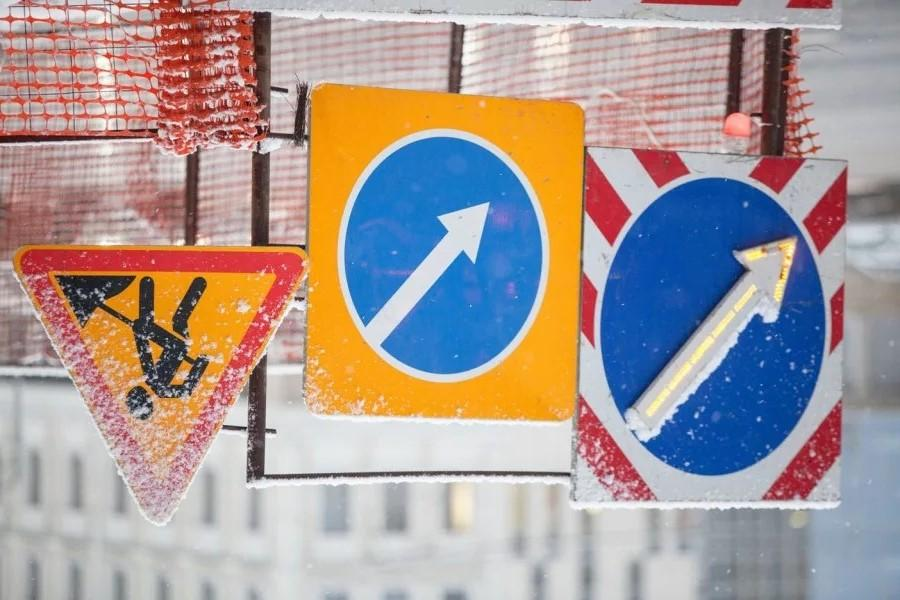obstructed_road_sign: (569, 147, 848, 507), (9, 243, 312, 524)
road_sign: (301, 82, 590, 422)
